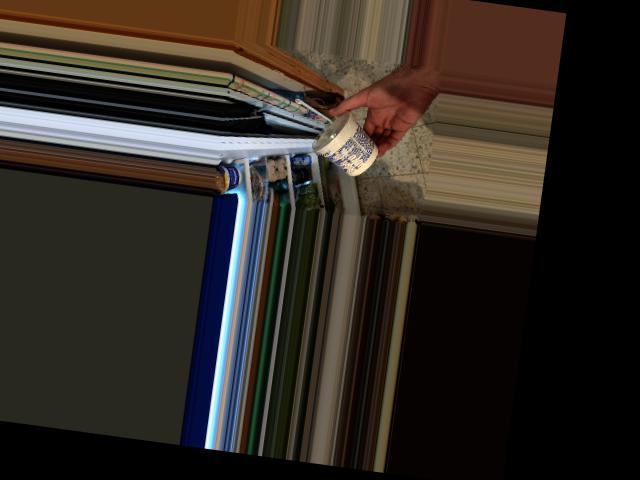cotage: (307, 106, 385, 171)
